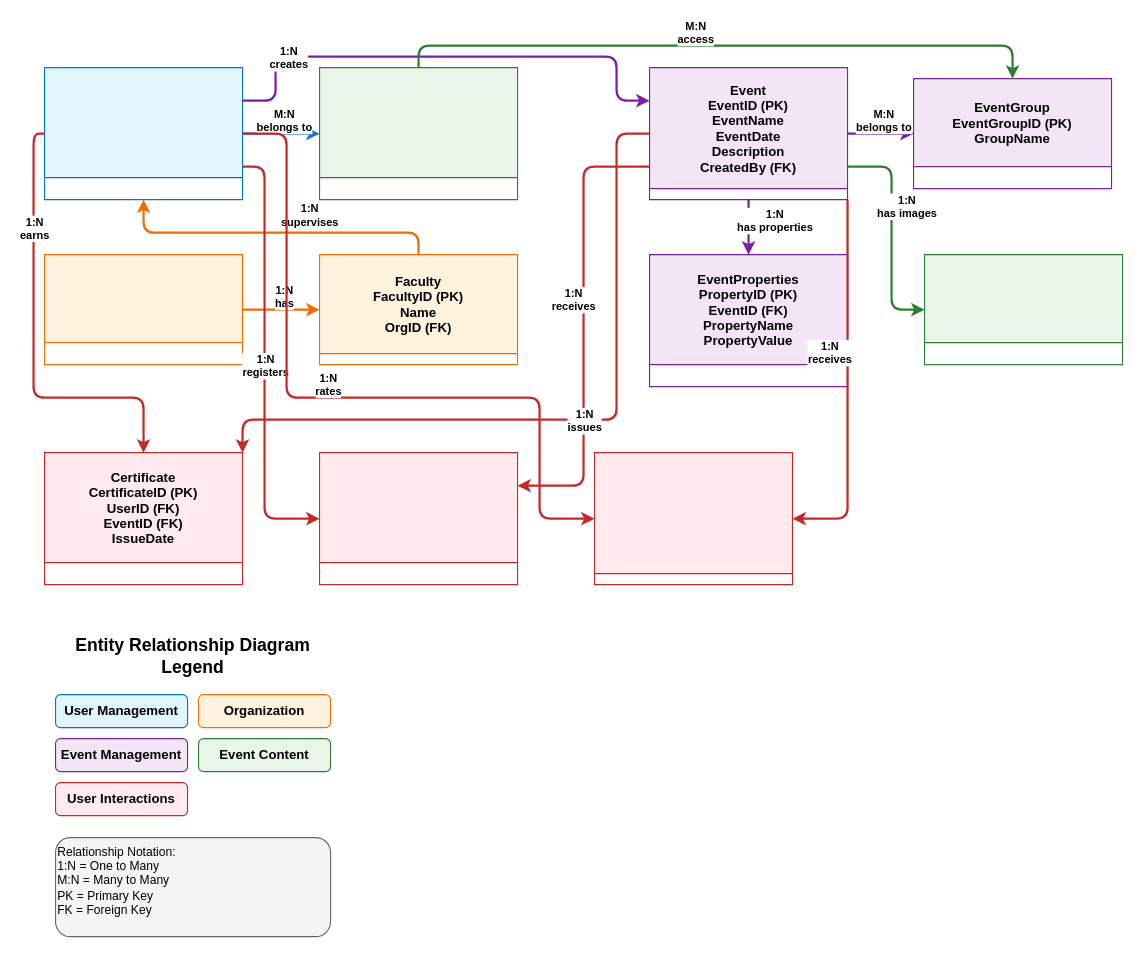
Some shapes in this 1142 by 956 pixel diagram are drawn without their labels. The shapes that lost their labels are listed below. From the top down, each one's box as (x1, y1, x2, y2) in pixels, then its label:
(43, 67, 243, 200): User UserID (PK) Name Email Password Role Verified
(318, 67, 518, 200): UserGroup UserGroupID (PK) GroupName AccessLevel
(43, 254, 243, 365): Organization OrgID (PK) OrgName
(923, 254, 1123, 365): Gallery ImageID (PK) EventID (FK) ImageURL
(318, 452, 518, 585): Registration RegistrationID (PK) UserID (FK) EventID (FK) Status
(593, 452, 793, 585): Rating RatingID (PK) UserID (FK) EventID (FK) Score Comment
